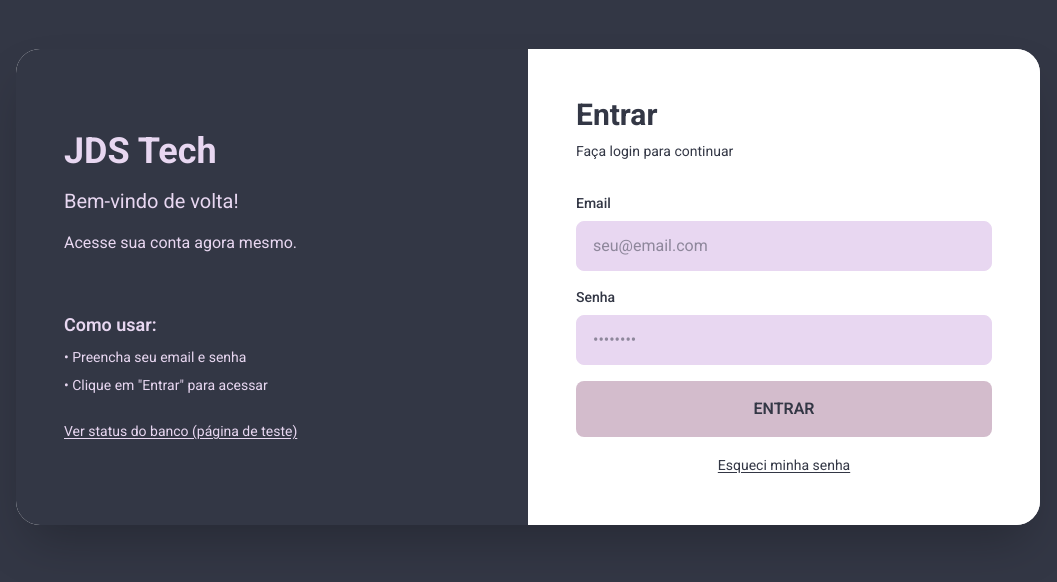
Scenario: LoginPage › Submissão do Formulário › deve mostrar erro quando email não está confirmado
Type "teste@email.com" into the field labelled "Email". click: point(784, 246)
box: [576,221,992,271]
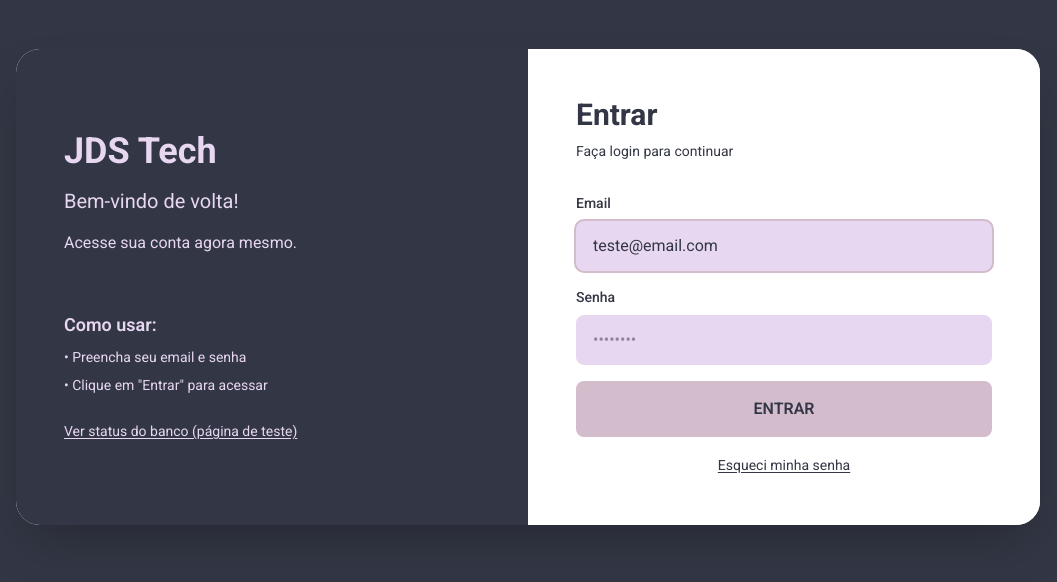
Type "senha123" into the password field labelled "Senha". click: point(784, 340)
box: [576,315,992,365]
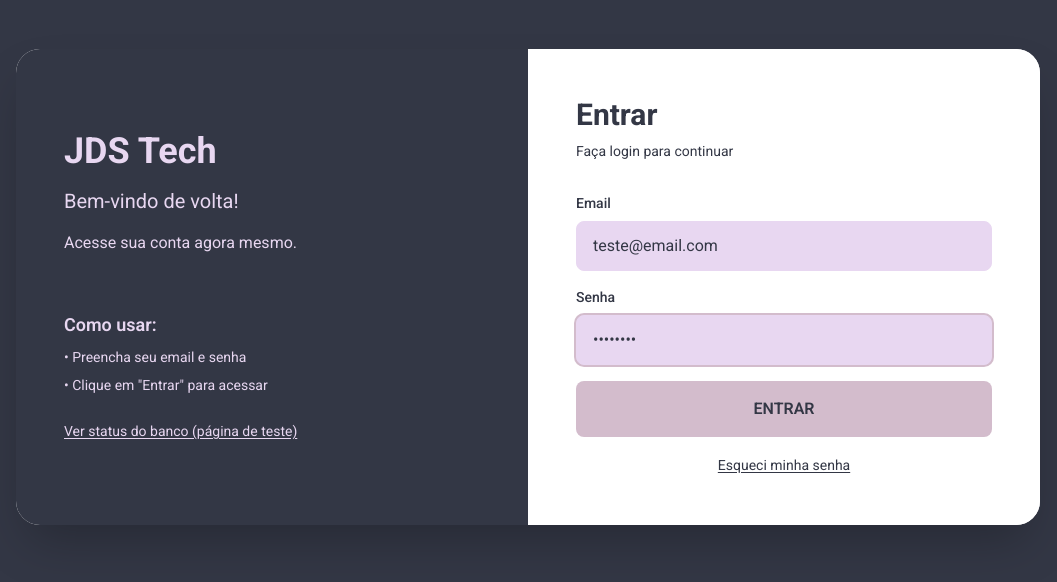
Click the button "ENTRAR". click: point(784, 409)
box: [576,381,992,437]
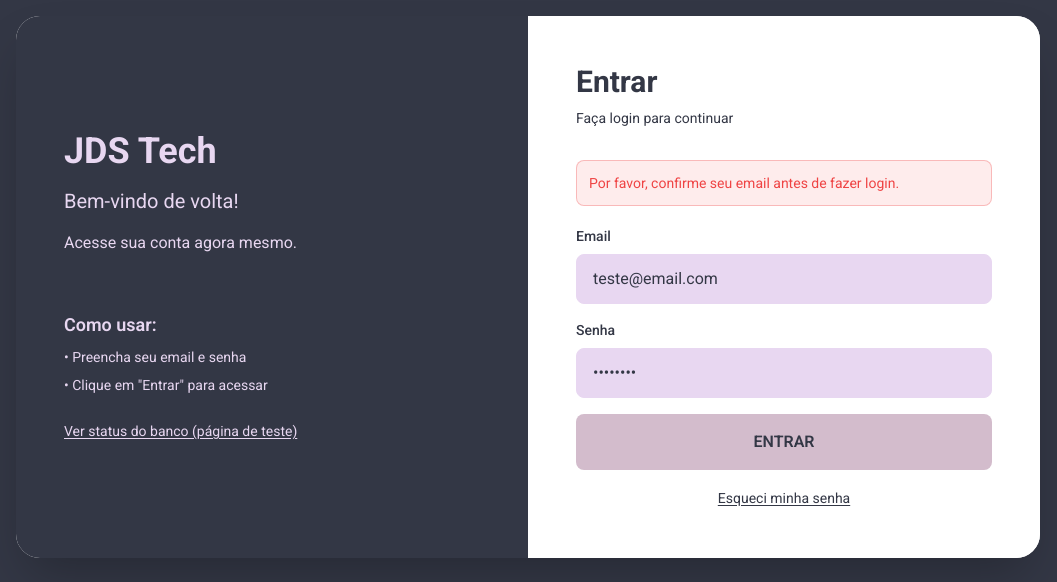
Now the text "Por favor, confirme seu email antes de fazer login." is shown, box [589,175,899,191]
